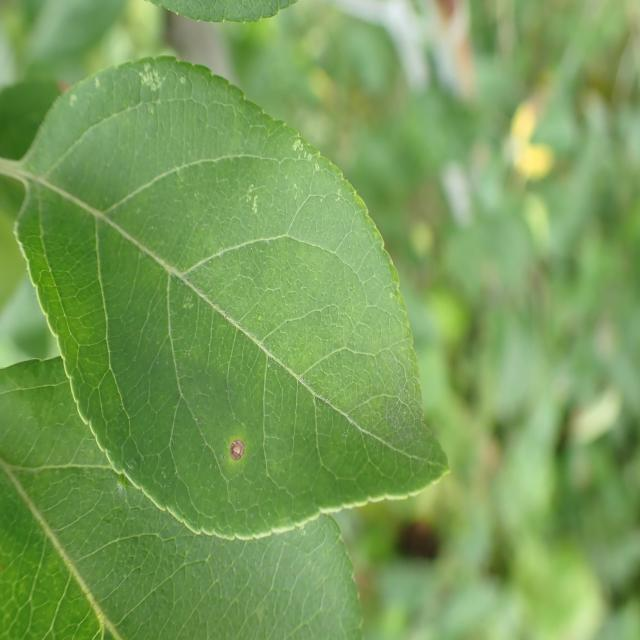Black Rot: (226, 420, 255, 478)
